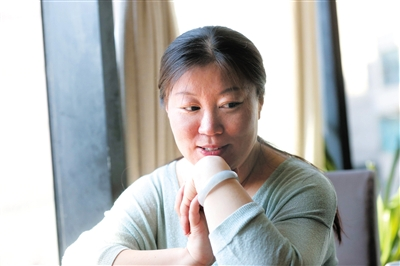face: (166, 63, 257, 167)
